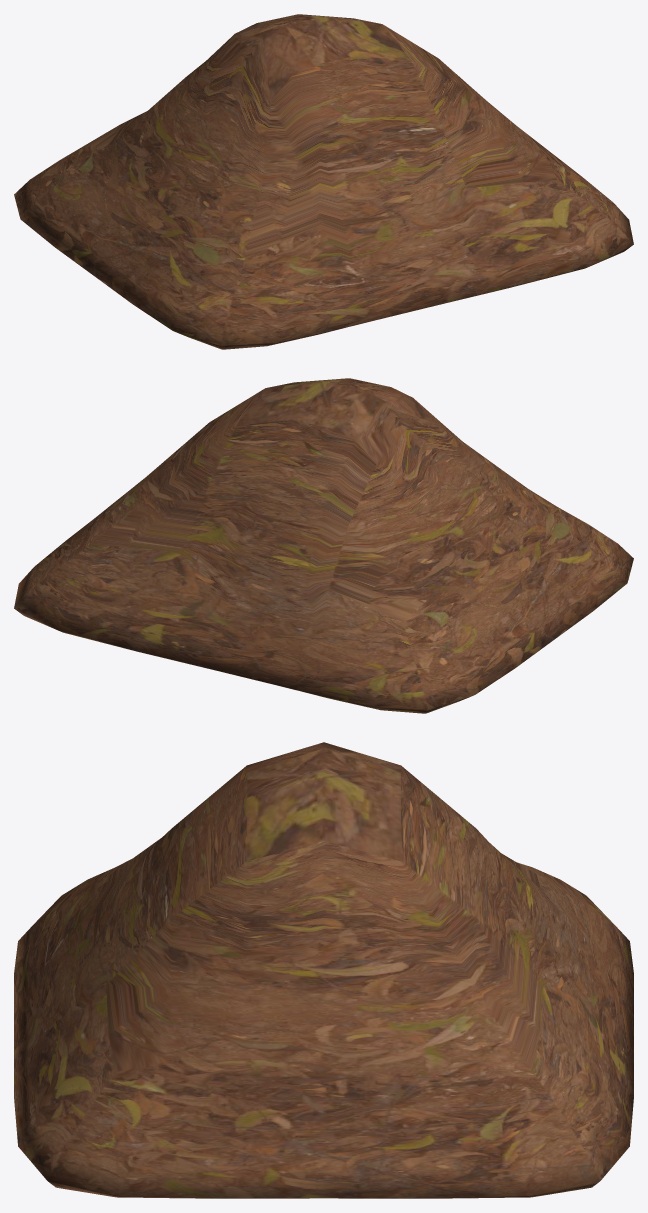
Rendered from DirtMoundthree.fbx.
The picture shows the model from 3 angles, top to bottom: view 1: azimuth 30°, elevation 25°; view 2: azimuth 150°, elevation 25°; view 3: azimuth 270°, elevation 25°; orthographic projection. The views are drawn at different scales.
Visible parts, largest first — view 1: Blocktwo.007; view 2: Blocktwo.007; view 3: Blocktwo.007.
Part boxes in pixels (<box>): Blocktwo.007: <box>14,14,633,349</box>; Blocktwo.007: <box>14,378,633,713</box>; Blocktwo.007: <box>14,742,633,1198</box>.
Bounding box in the file's own units: 205 × 92.1 × 177.
Materials: 1 (1 with a texture image).
